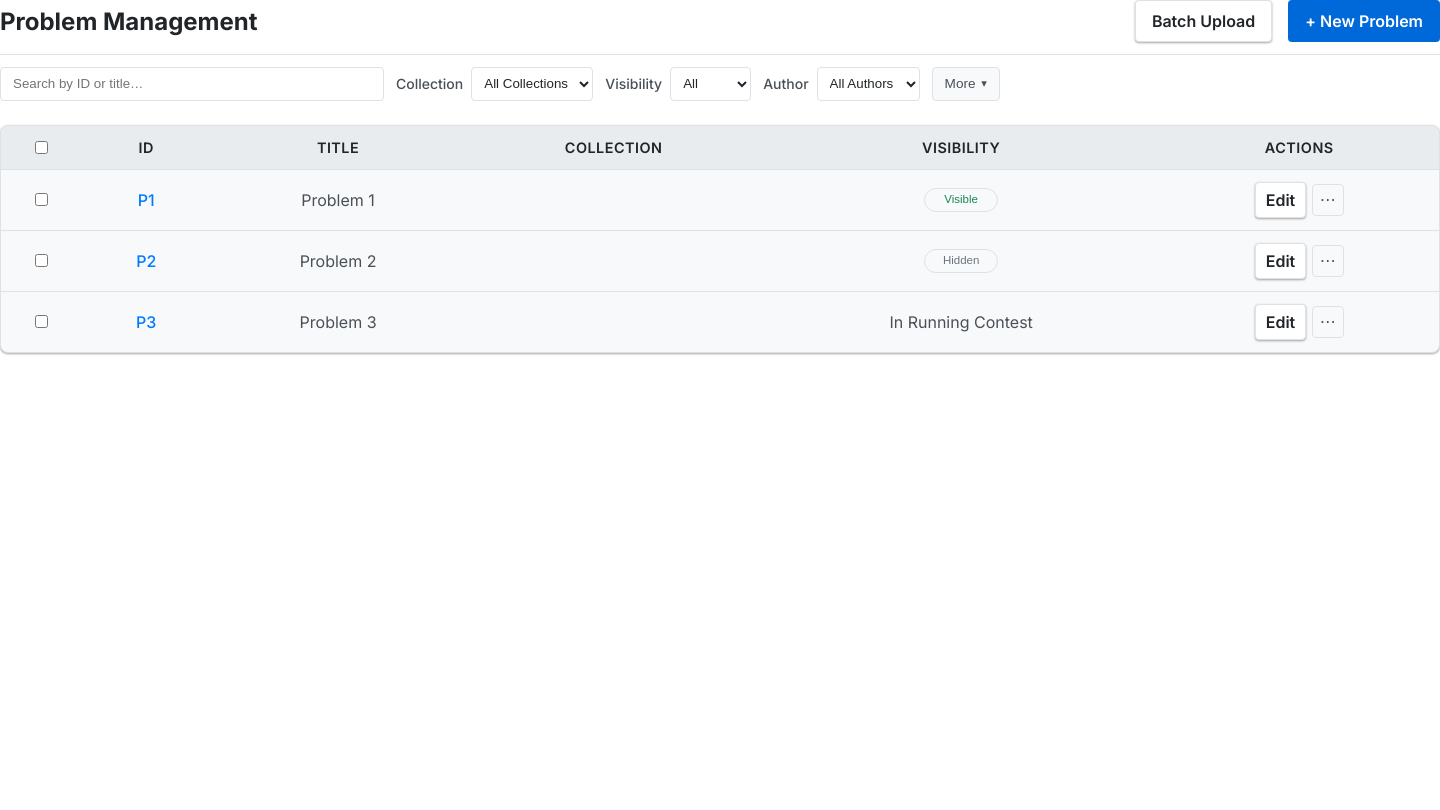
Test: ProblemManagement Component › retains the loaded rows and reports a bulk failure for retry
Expected: the text "Problem 1" is shown, 212,169 -> 465,230
Click the button with aria-label "more global actions". click: click(966, 84)
box: 932,67 -> 1000,101
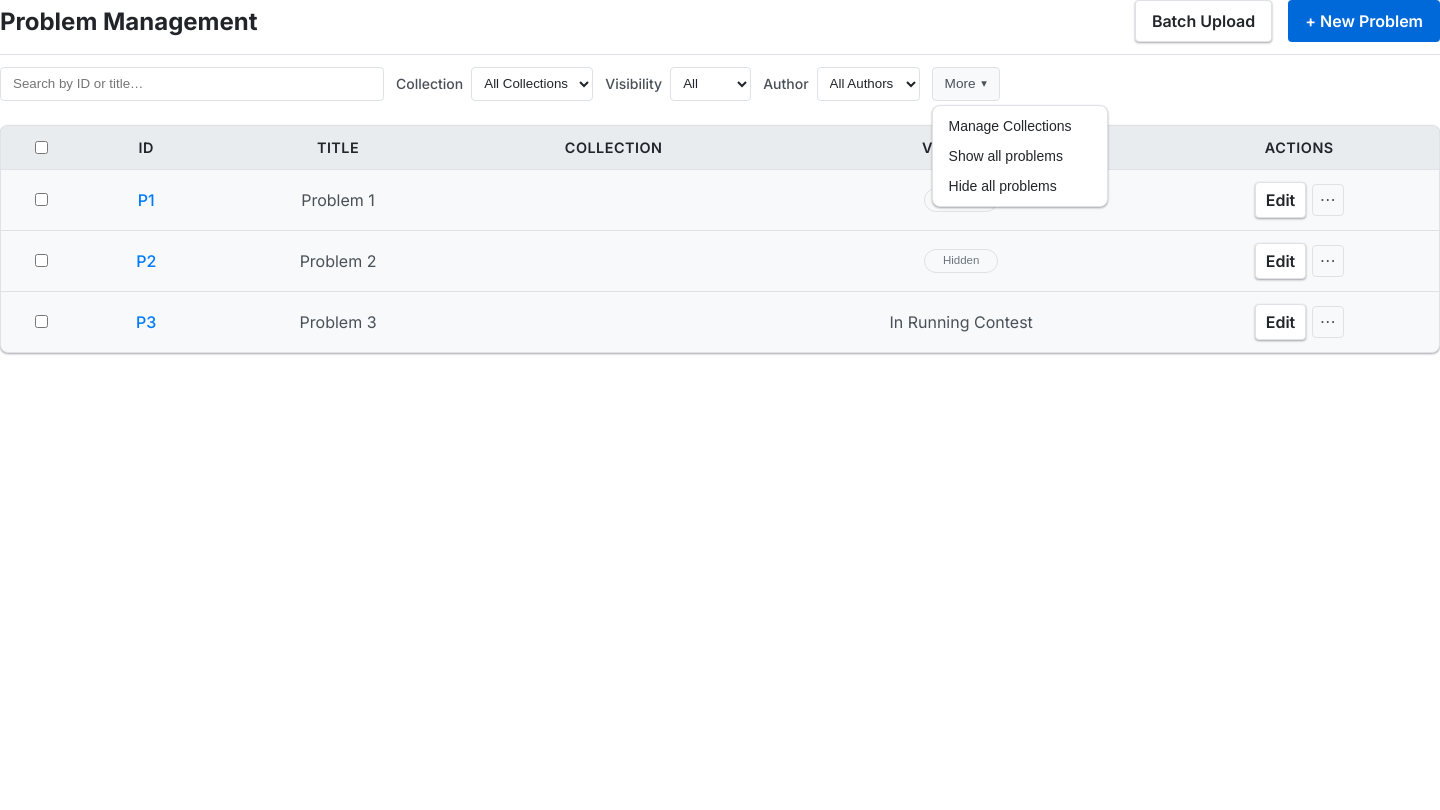
Click the menu item "Hide all problems". click: click(1020, 186)
box: 937,171 -> 1102,202
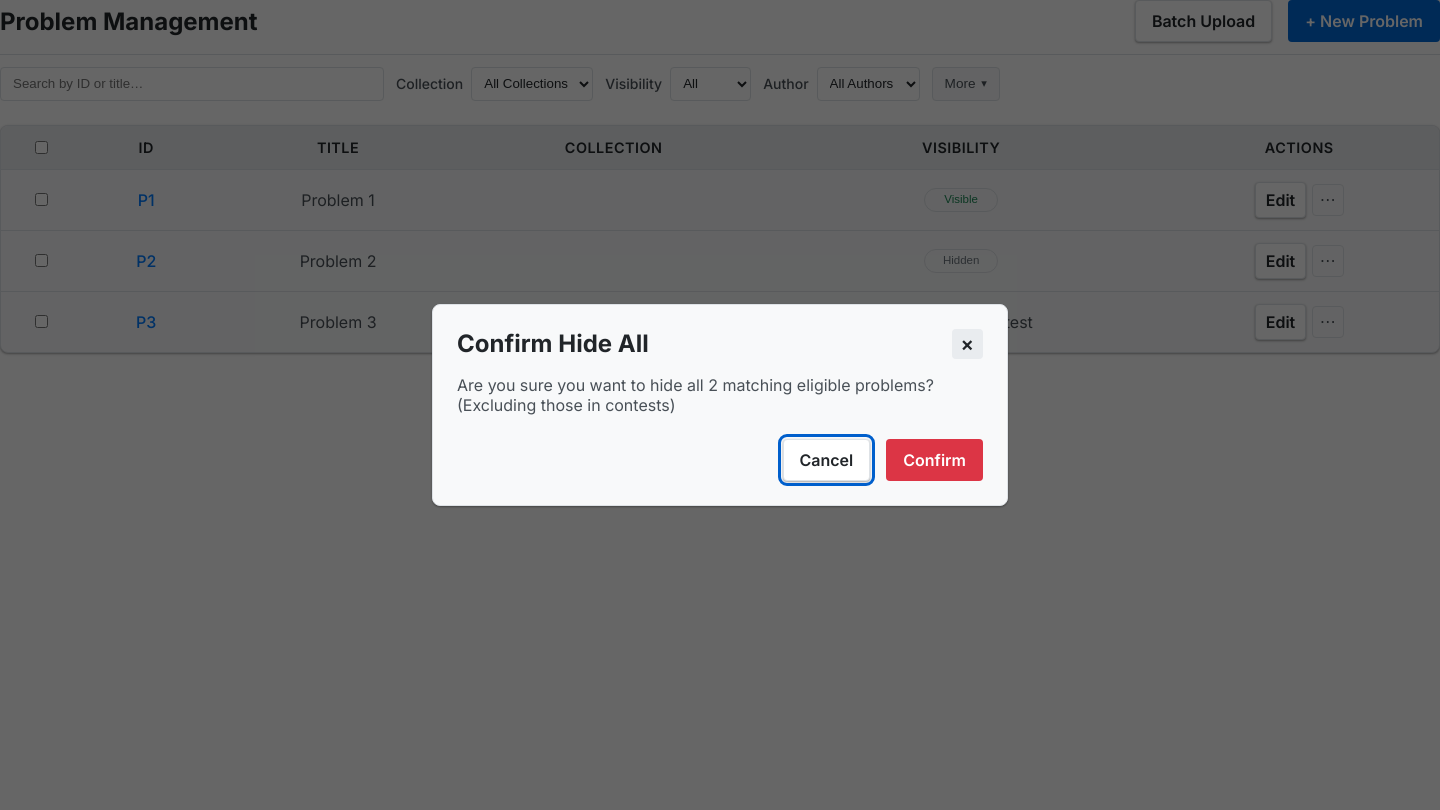
Click the button "Confirm". click: click(935, 460)
box: 886,439 -> 983,481
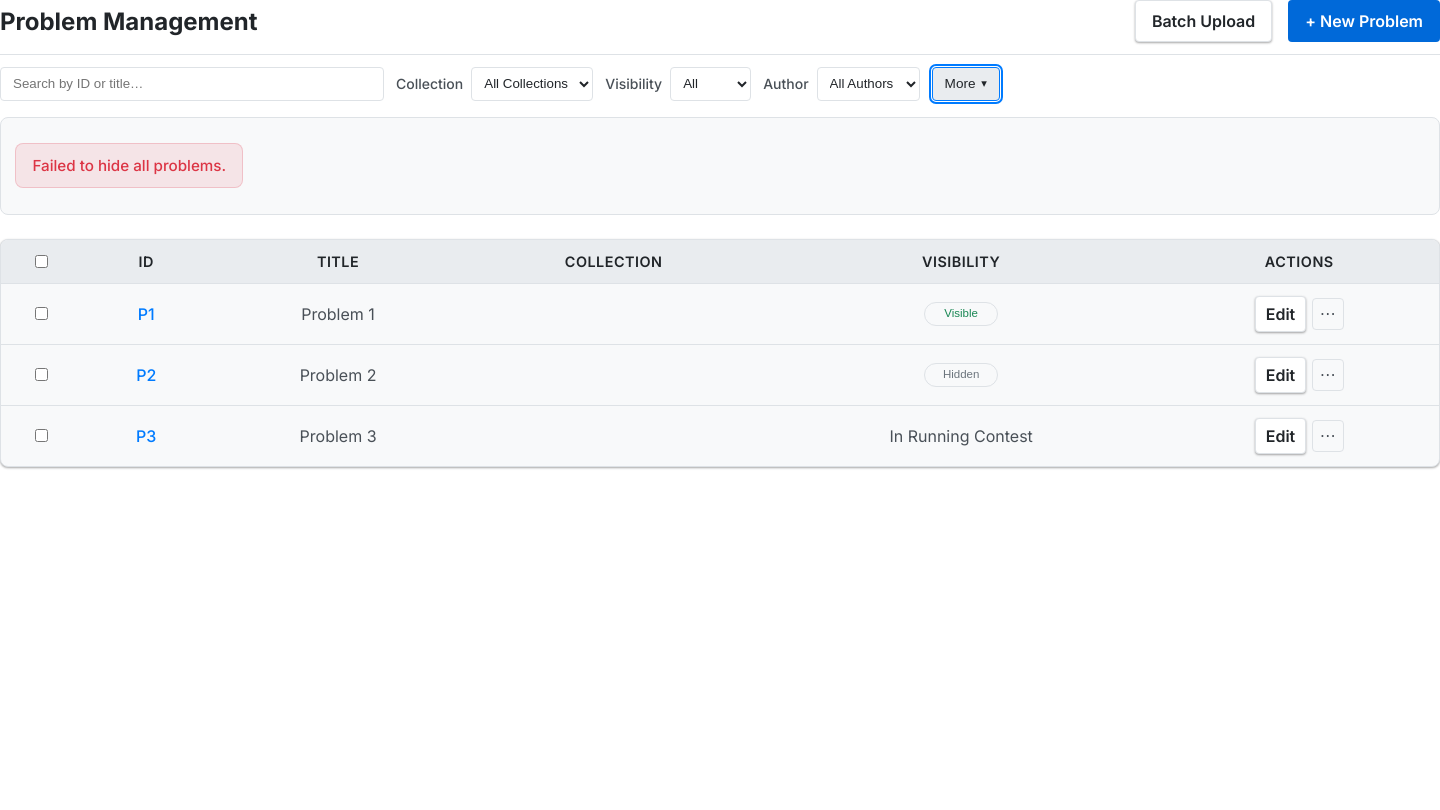
Expected: the text "Problem 1" is shown, 212,283 -> 465,344
Expected: the message reads "Failed to hide all problems.", 32,156 -> 226,175
